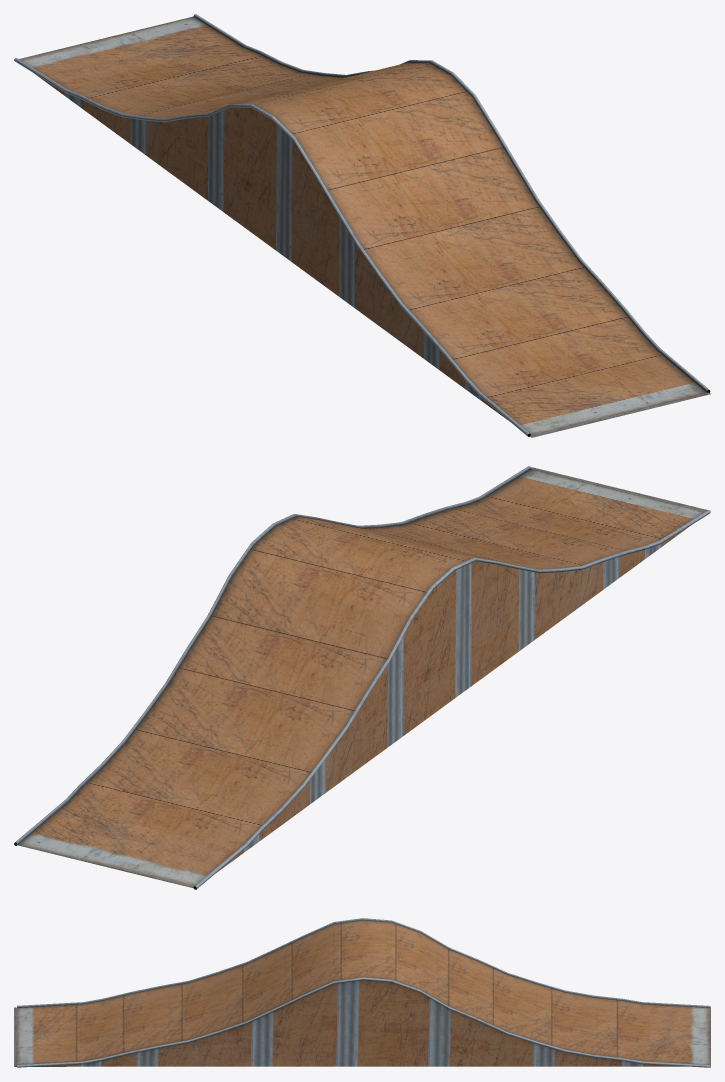
Rendered from Ramp04.fbx.
3 views of the same model, one above another, from view 1: azimuth 30°, elevation 25°; view 2: azimuth 150°, elevation 25°; view 3: azimuth 270°, elevation 25° (orthographic). The views are drawn at different scales.
Parts seen in each view (by area): view 1: Ramp04; view 2: Ramp04; view 3: Ramp04.
Boxes of the visible parts, box(x1,y1,x2,y2) form: Ramp04: box(14, 14, 710, 437); Ramp04: box(14, 466, 710, 889); Ramp04: box(14, 918, 710, 1067).
Bounding box in the file's own units: 2.05 × 1.43 × 10.01.
